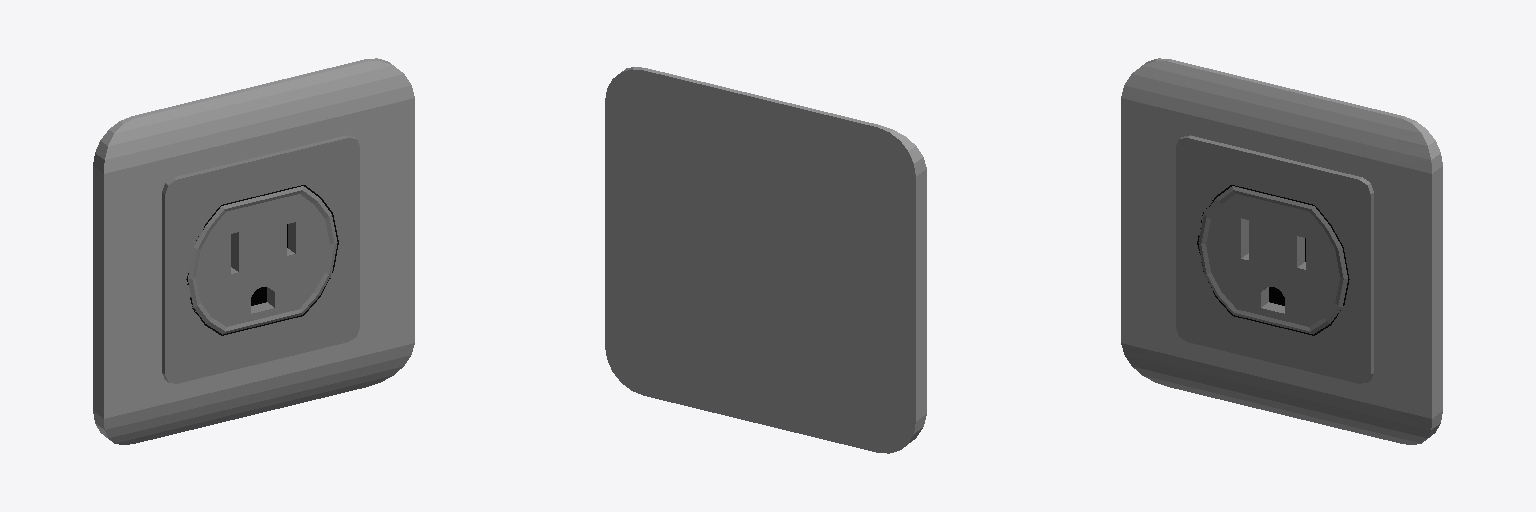
Rendered from plug-TypeB-whites.obj.
3 renders of one model, left to right at view 1: azimuth 30°, elevation 25°; view 2: azimuth 150°, elevation 25°; view 3: azimuth 330°, elevation 25°, orthographic.
Visible parts, largest first — view 1: plug_Cube.001, base_Cube.004; view 2: plug_Cube.001; view 3: plug_Cube.001, base_Cube.004.
Boxes of the visible parts, x1,y1,x2,y2 form: plug_Cube.001: [93, 58, 414, 444]; base_Cube.004: [186, 185, 338, 335]; plug_Cube.001: [605, 67, 926, 453]; plug_Cube.001: [1121, 58, 1442, 444]; base_Cube.004: [1197, 185, 1349, 335].
Size of the model in its own units: 8.5 by 8.5 by 0.7169.